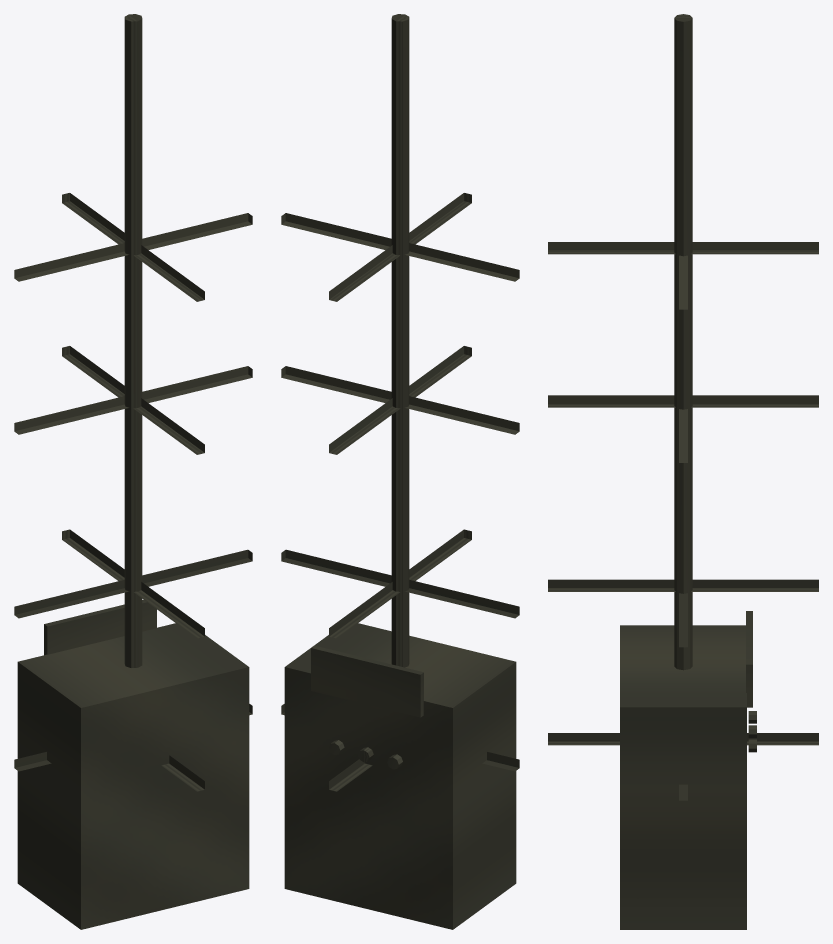
Rendered from env_antenna_mast_tall_a.glb.
The picture shows the model from 3 angles, left to right: view 1: azimuth 30°, elevation 25°; view 2: azimuth 150°, elevation 25°; view 3: azimuth 270°, elevation 25°; orthographic projection.
Parts seen in each view (by area): view 1: env_antenna_mast_tall_a; view 2: env_antenna_mast_tall_a; view 3: env_antenna_mast_tall_a.
Part boxes in pixels (box(x1,y1,x2,y2)): env_antenna_mast_tall_a: box(14, 14, 252, 929); env_antenna_mast_tall_a: box(281, 14, 519, 929); env_antenna_mast_tall_a: box(548, 14, 818, 929).
Bounding box in the file's own units: 1.6 × 5.7 × 1.6.
1 material, 1 textured.
